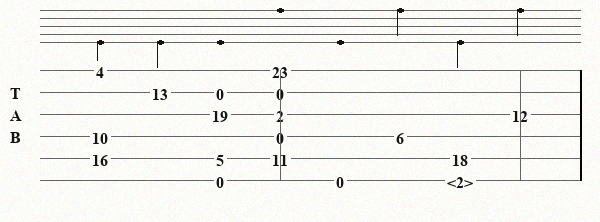0: (216, 173, 228, 188), (216, 85, 228, 100), (276, 129, 288, 144), (276, 85, 288, 100), (336, 173, 348, 188)
10: (92, 129, 112, 144)
11: (272, 151, 292, 166)
12: (512, 107, 532, 122)
13: (152, 85, 172, 100)
16: (92, 151, 112, 166)
18: (452, 151, 472, 166)
19: (212, 107, 232, 122)
2: (276, 107, 288, 122)
23: (272, 63, 292, 78)
4: (96, 63, 108, 78)
5: (216, 151, 228, 166)
6: (396, 129, 408, 144)
harmonic: (447, 173, 477, 188)
